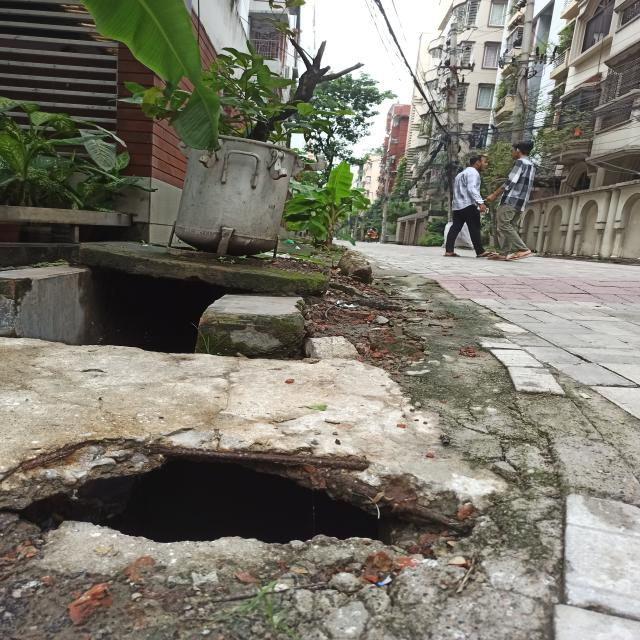artificial_container: (172, 134, 326, 256)
